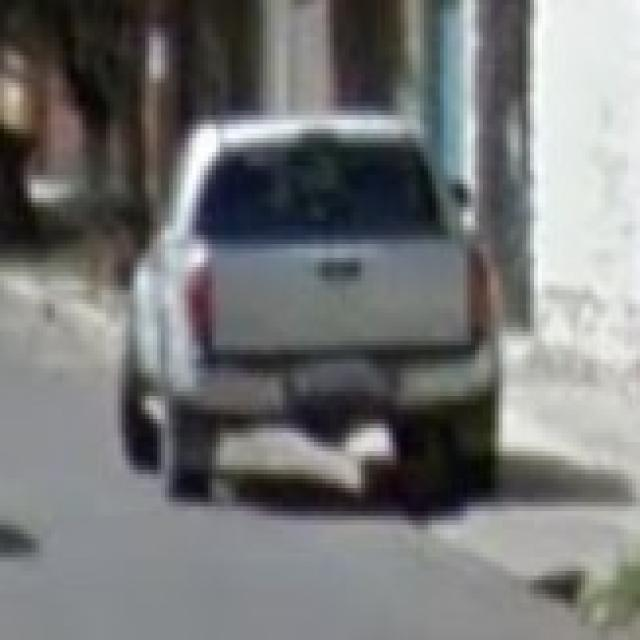cars: (122, 119, 508, 504)
